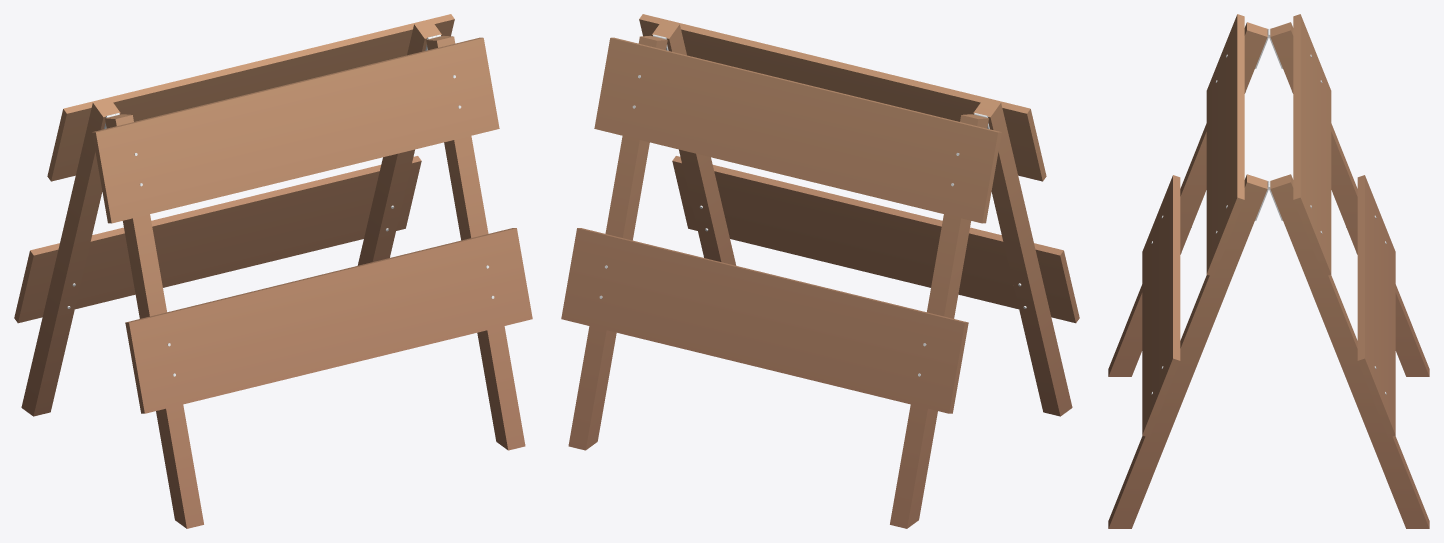
File: simple_barricade_01_wood_medium.glb
3 renders of one model, left to right at view 1: azimuth 30°, elevation 25°; view 2: azimuth 150°, elevation 25°; view 3: azimuth 270°, elevation 25°, orthographic. The views are drawn at different scales.
Visible parts, largest first — view 1: simple_barricade_01_wood_medium; view 2: simple_barricade_01_wood_medium; view 3: simple_barricade_01_wood_medium.
Boxes of the visible parts, x1=… form: simple_barricade_01_wood_medium: x1=14, y1=14, x2=532, y2=528; simple_barricade_01_wood_medium: x1=561, y1=14, x2=1079, y2=528; simple_barricade_01_wood_medium: x1=1108, y1=14, x2=1429, y2=528.
Bounding box in the file's own units: 1.12 × 0.9894 × 0.8304.
1 material, 1 textured.
